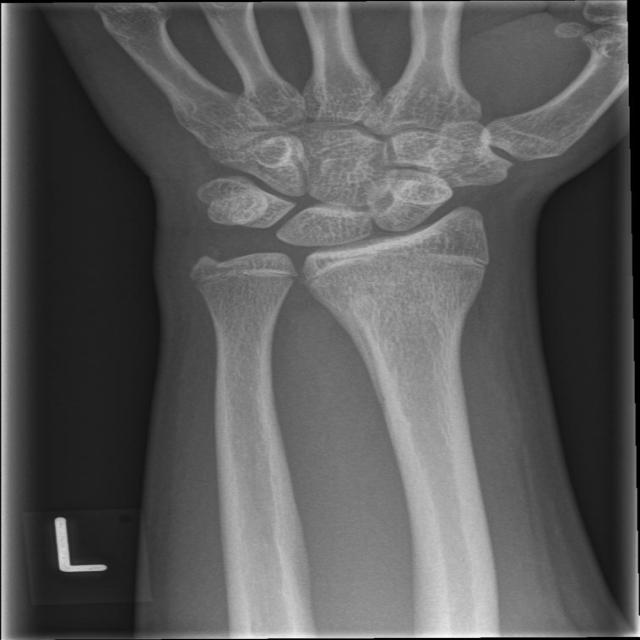fracture: (281, 244, 502, 295), (180, 256, 302, 293)
